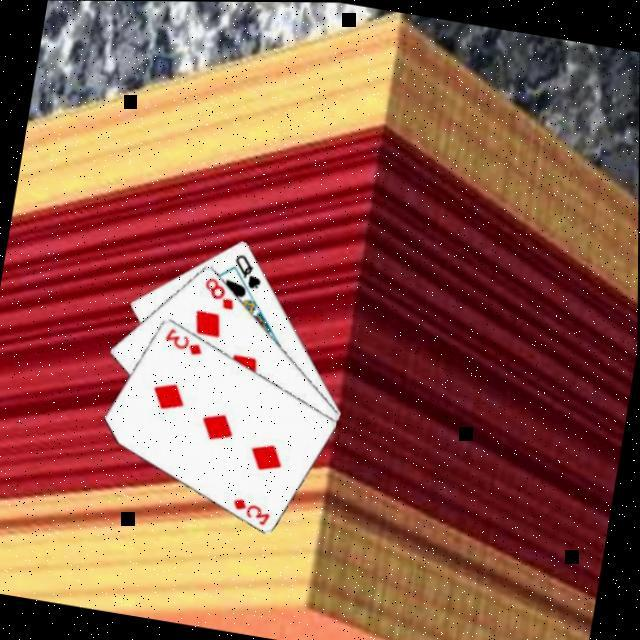3D: (158, 323, 206, 358), (225, 494, 273, 529)
8D: (196, 273, 239, 314)
QS: (226, 249, 267, 292)
